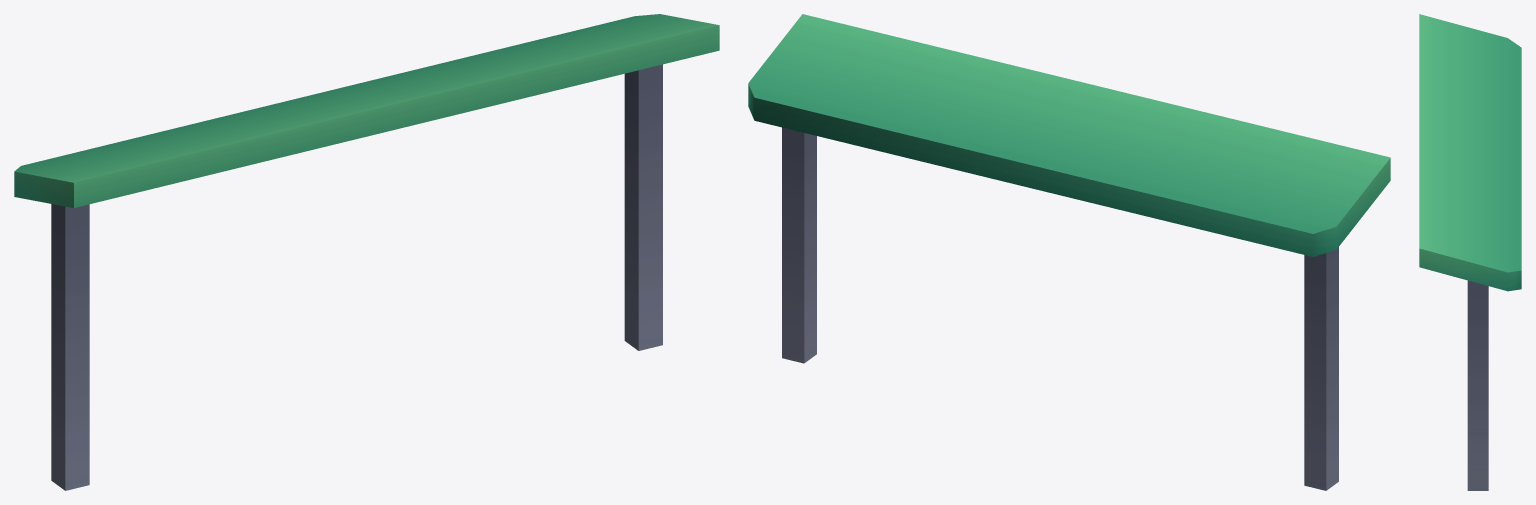
Rendered from detail-awning-wide.glb.
3 renders of one model, left to right at view 1: azimuth 30°, elevation 25°; view 2: azimuth 150°, elevation 25°; view 3: azimuth 270°, elevation 25°, orthographic. The views are drawn at different scales.
Visible parts, largest first — view 1: detail-awning-wide; view 2: detail-awning-wide; view 3: detail-awning-wide.
Boxes of the visible parts, left/top/right/bottom form: detail-awning-wide: left=14, top=14, right=719, bottom=490; detail-awning-wide: left=748, top=14, right=1390, bottom=490; detail-awning-wide: left=1419, top=14, right=1521, bottom=490.
Bounding box in the file's own units: 0.8 × 0.4 × 0.1479.
Materials: 1 (1 with a texture image).
